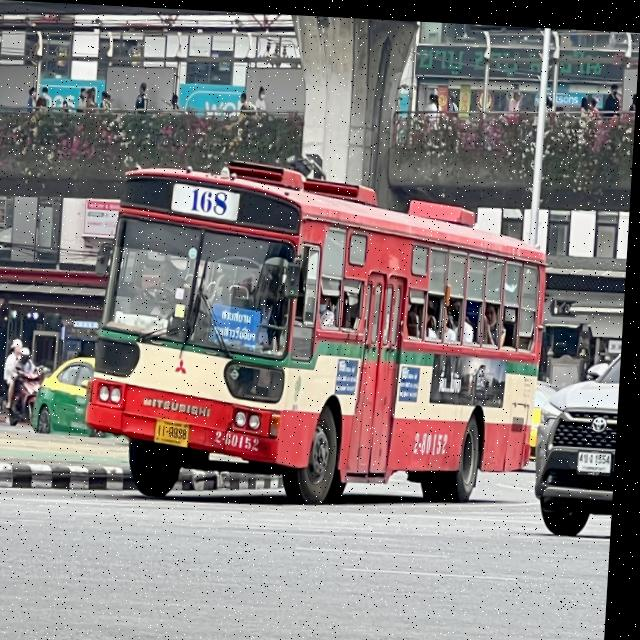BMTA-bus: (83, 156, 556, 514)
Bus-Line-Number: (181, 184, 239, 218)
Destination-Sign-Normal: (215, 302, 264, 345)
